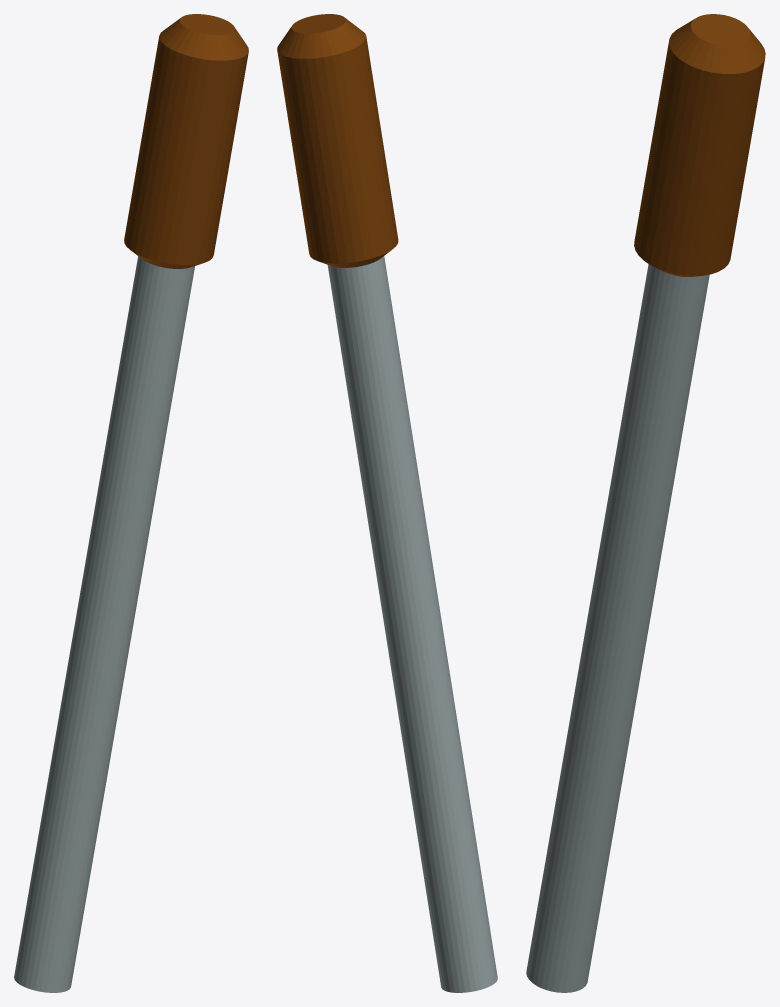
File: RMirror_ButtonHandle.fbx
3 renders of one model, left to right at view 1: azimuth 30°, elevation 25°; view 2: azimuth 150°, elevation 25°; view 3: azimuth 330°, elevation 25°, orthographic. The views are drawn at different scales.
Parts seen in each view (by area): view 1: Cylinder; view 2: Cylinder; view 3: Cylinder.
Boxes of the visible parts, box(x1,y1,x2,y2) form: Cylinder: box(14, 14, 248, 992); Cylinder: box(277, 14, 497, 992); Cylinder: box(526, 14, 765, 992).
Bounding box in the file's own units: 46.55 × 190 × 17.27.
